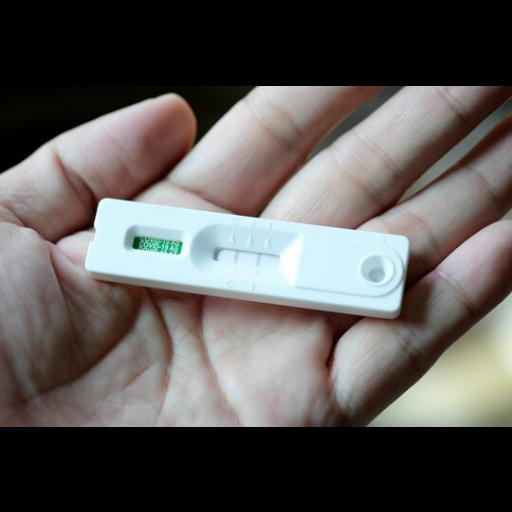Pos: (85, 197, 411, 313)
